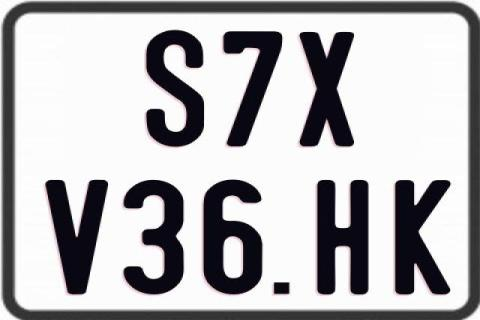0: (122, 178, 188, 294), (223, 29, 287, 145), (200, 177, 259, 297)
H: (314, 178, 370, 296)
K: (392, 180, 453, 297)
S: (144, 29, 206, 147)
V: (42, 178, 109, 296)
X: (297, 30, 354, 146)
